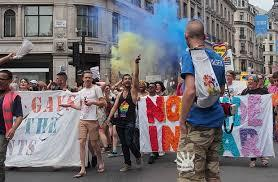smoke: (99, 3, 203, 80)
